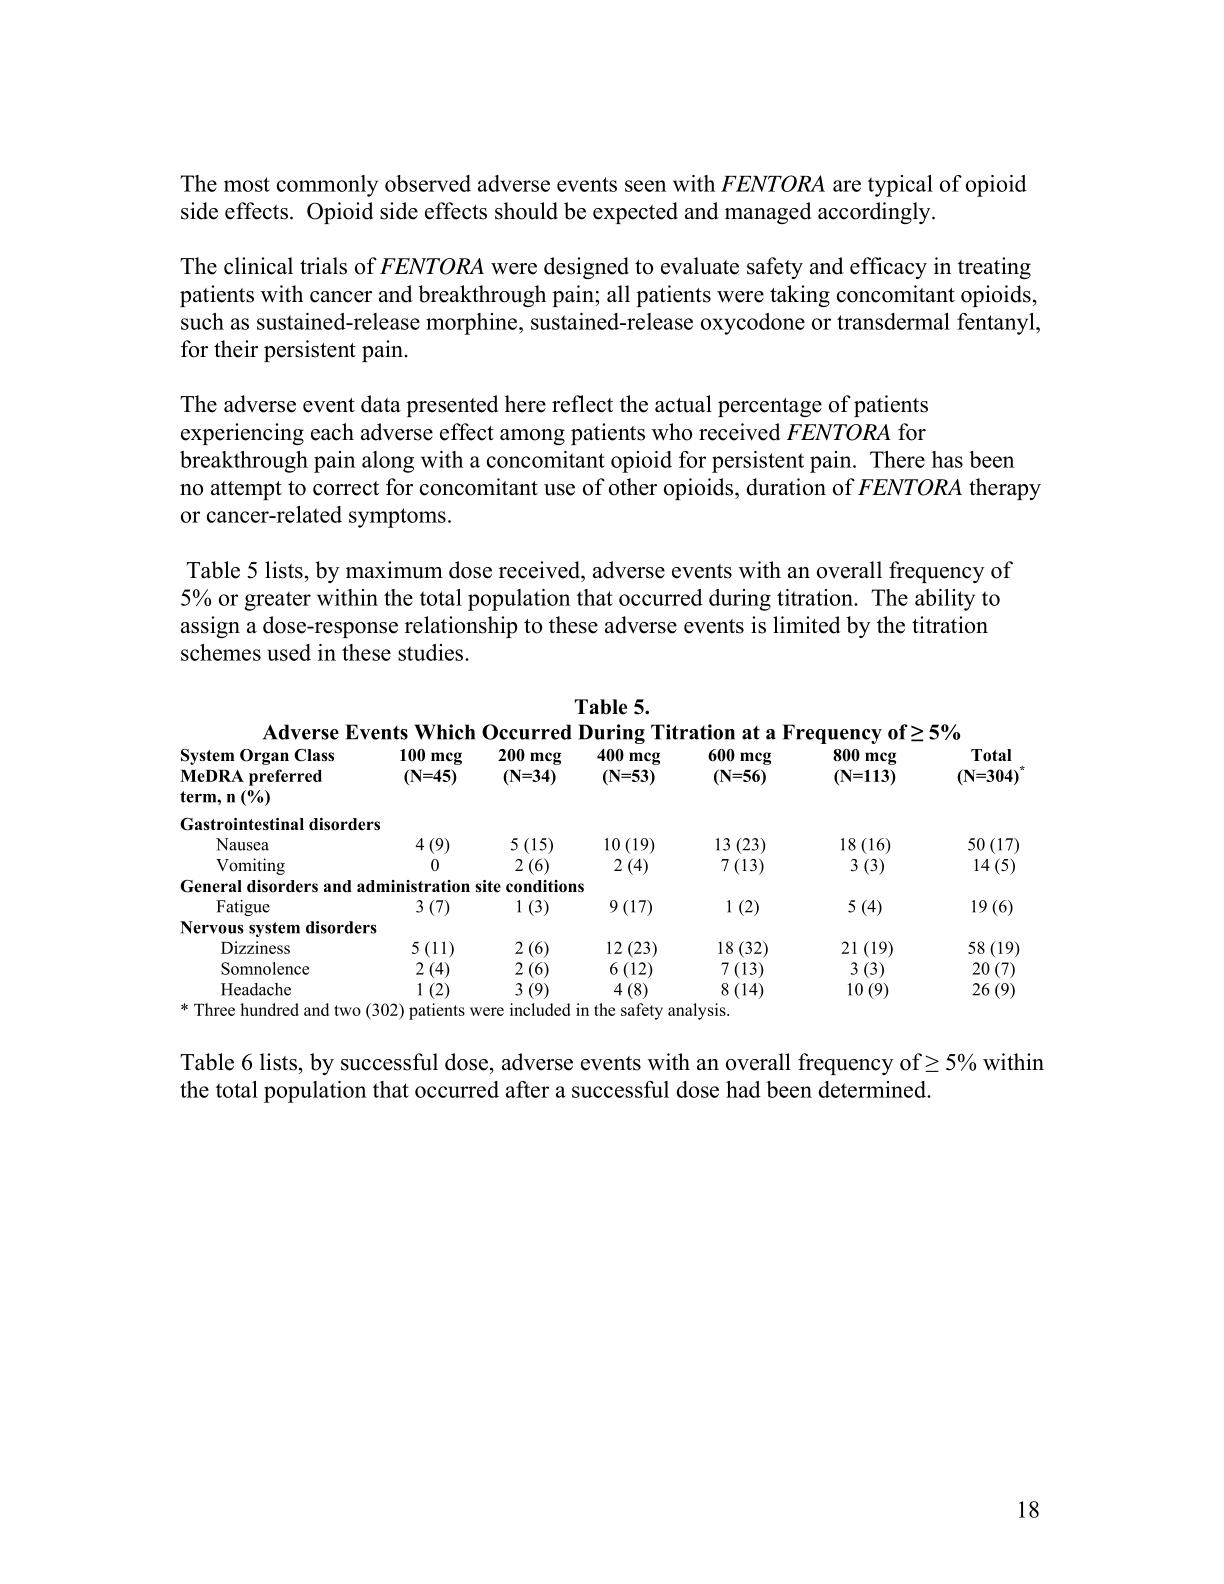nolines: (175, 744, 1023, 996)
